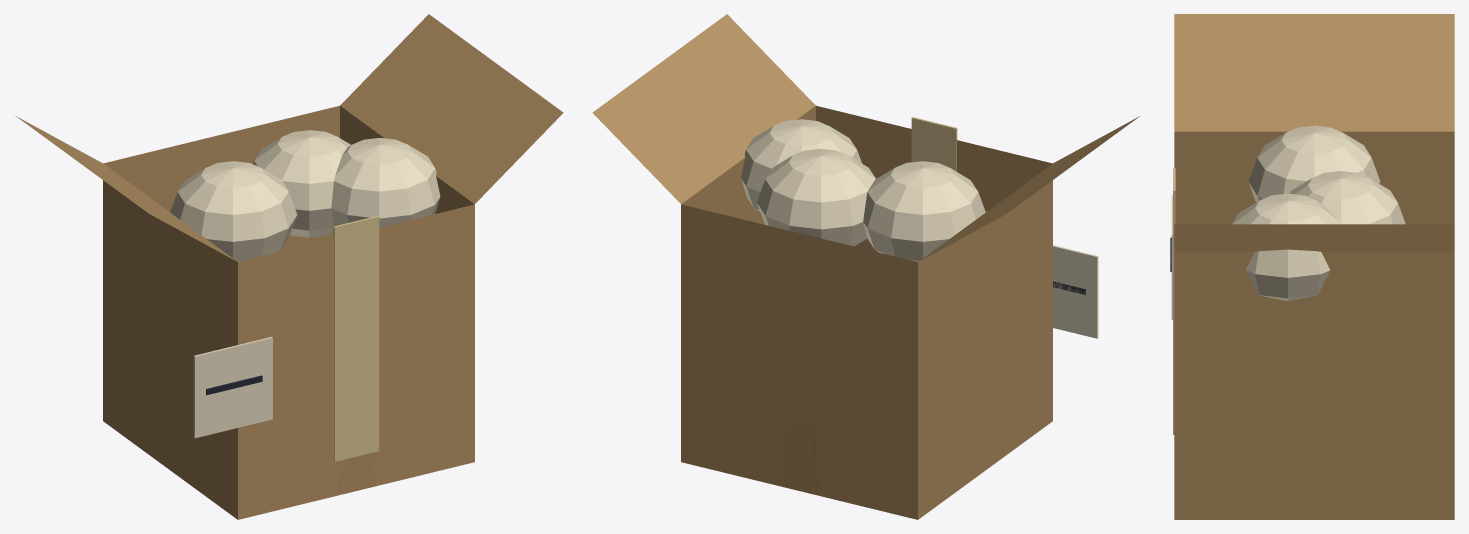
File: cardboardBoxOpen.glb
3 renders of one model, left to right at view 1: azimuth 30°, elevation 25°; view 2: azimuth 150°, elevation 25°; view 3: azimuth 270°, elevation 25°, orthographic. The views are drawn at different scales.
Visible parts, largest first — view 1: cardboardBoxOpen(Clone); view 2: cardboardBoxOpen(Clone); view 3: cardboardBoxOpen(Clone).
Boxes of the visible parts, box(x1,y1,x2,y2) form: cardboardBoxOpen(Clone): box(16, 14, 563, 519); cardboardBoxOpen(Clone): box(592, 14, 1139, 519); cardboardBoxOpen(Clone): box(1170, 14, 1454, 519).
Size of the model in its own units: 0.3719 by 0.281 by 0.2125.
